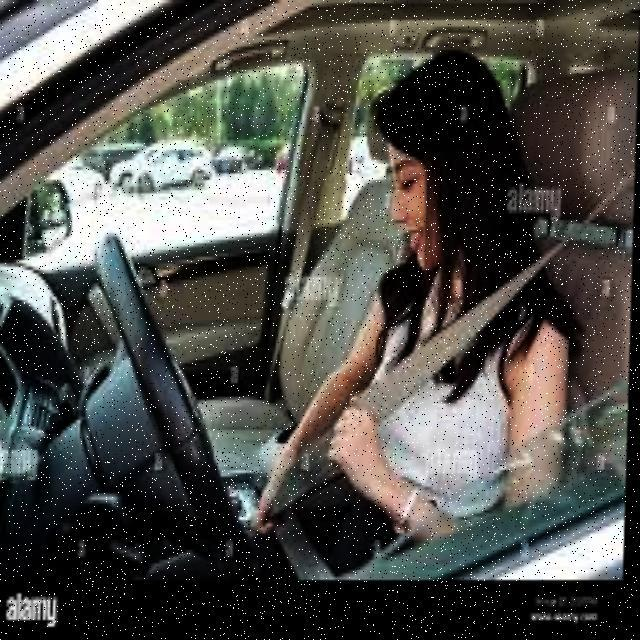seatbelt: (375, 260, 550, 460)
